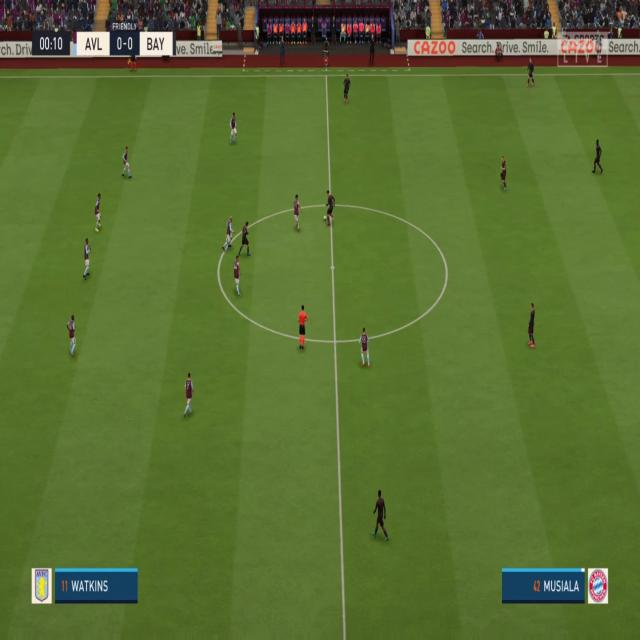Ball: (323, 216, 327, 220)
Referee: (297, 304, 309, 351)
Team-A: (372, 490, 389, 542), (526, 301, 536, 348), (591, 139, 604, 174), (238, 222, 251, 257), (324, 190, 336, 226), (499, 156, 508, 192), (342, 73, 352, 104), (526, 57, 535, 88)
Team-H: (183, 372, 195, 421), (222, 215, 236, 252), (66, 314, 77, 358), (359, 328, 371, 368), (82, 238, 92, 281), (121, 146, 133, 180), (93, 192, 103, 232), (293, 194, 303, 233), (233, 255, 242, 297), (228, 112, 238, 145)
